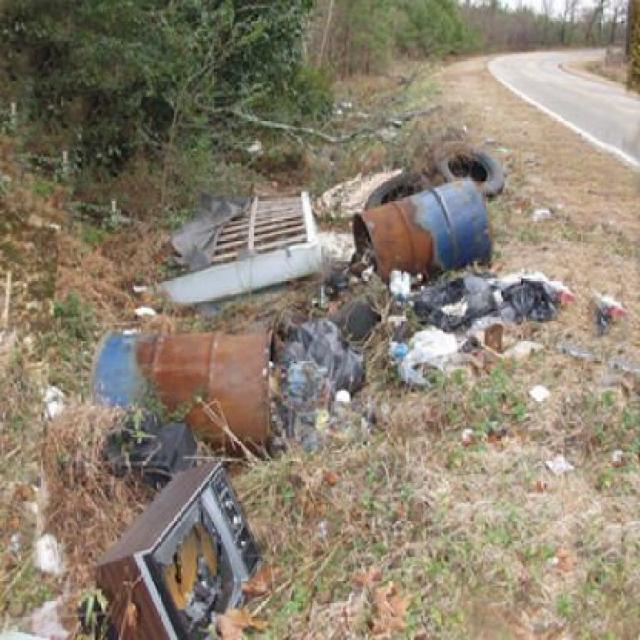garbage: (146, 194, 570, 374), (94, 326, 276, 638), (368, 142, 510, 211), (0, 570, 135, 638)
